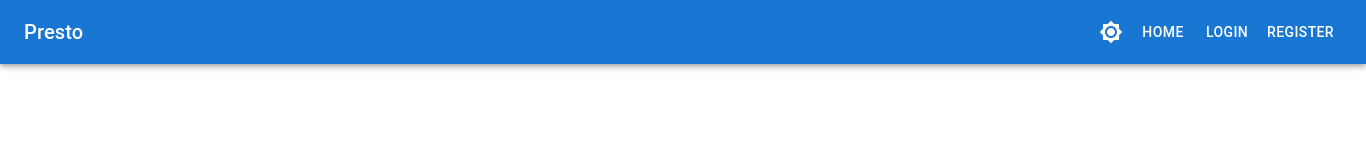
it: Navbar Component › displays correct tooltip for theme toggle button
Note: Simulate hover or focus on the button to reveal the tooltip
Hover over the button named "Toggle theme" at {"x": 1111, "y": 32}, box x1=1091 y1=12 x2=1131 y2=52
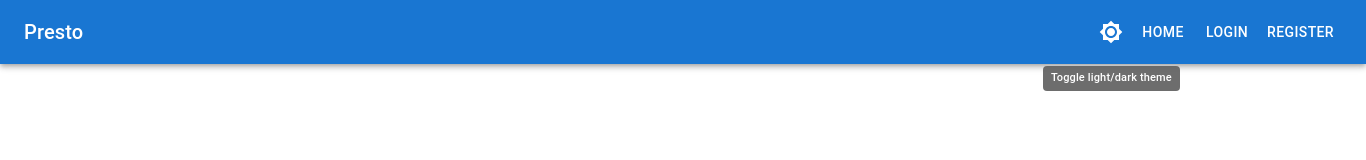
expect the text "Toggle light/dark theme" is shown: met, box x1=1043 y1=66 x2=1180 y2=90
